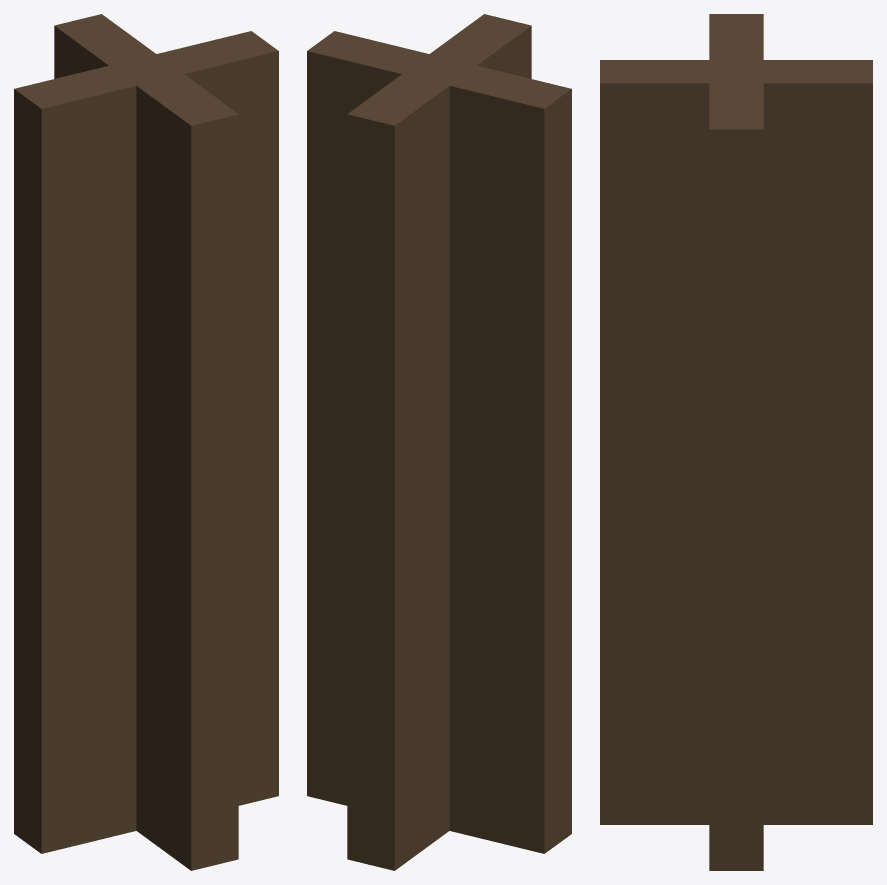
File: wall_small_4ways.fbx
The picture shows the model from 3 angles, left to right: view 1: azimuth 30°, elevation 25°; view 2: azimuth 150°, elevation 25°; view 3: azimuth 270°, elevation 25°; orthographic projection.
Parts seen in each view (by area): view 1: wall_small_4ways; view 2: wall_small_4ways; view 3: wall_small_4ways.
Part boxes in pixels (bbox=[...]): wall_small_4ways: bbox=[14, 14, 278, 870]; wall_small_4ways: bbox=[307, 14, 571, 870]; wall_small_4ways: bbox=[600, 14, 872, 870].
Size of the model in its own units: 100 by 300 by 100.
